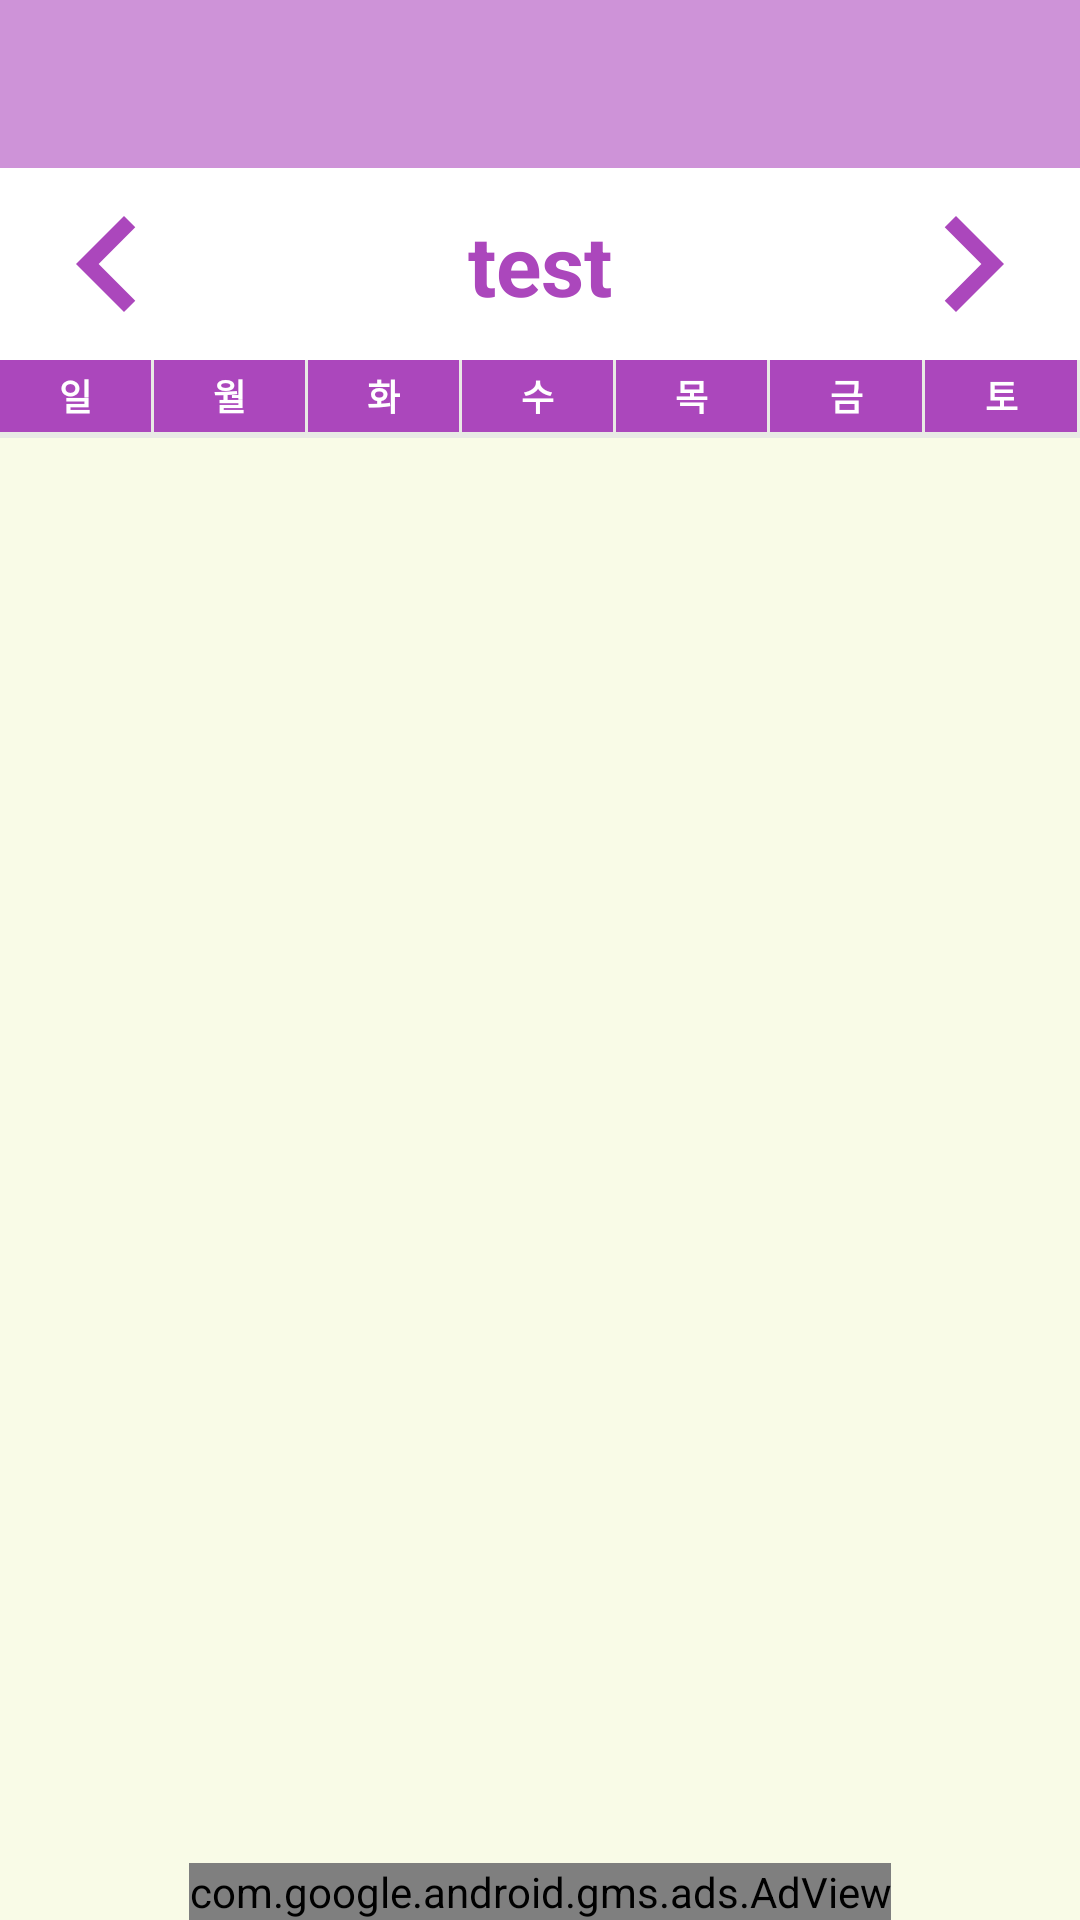

Point at icon controls on the screen. Image size 1080px x 1920px, points as (x=x, y=y).
Button to move to next month: (x=974, y=264)
Button to move to previous month: (x=105, y=264)
